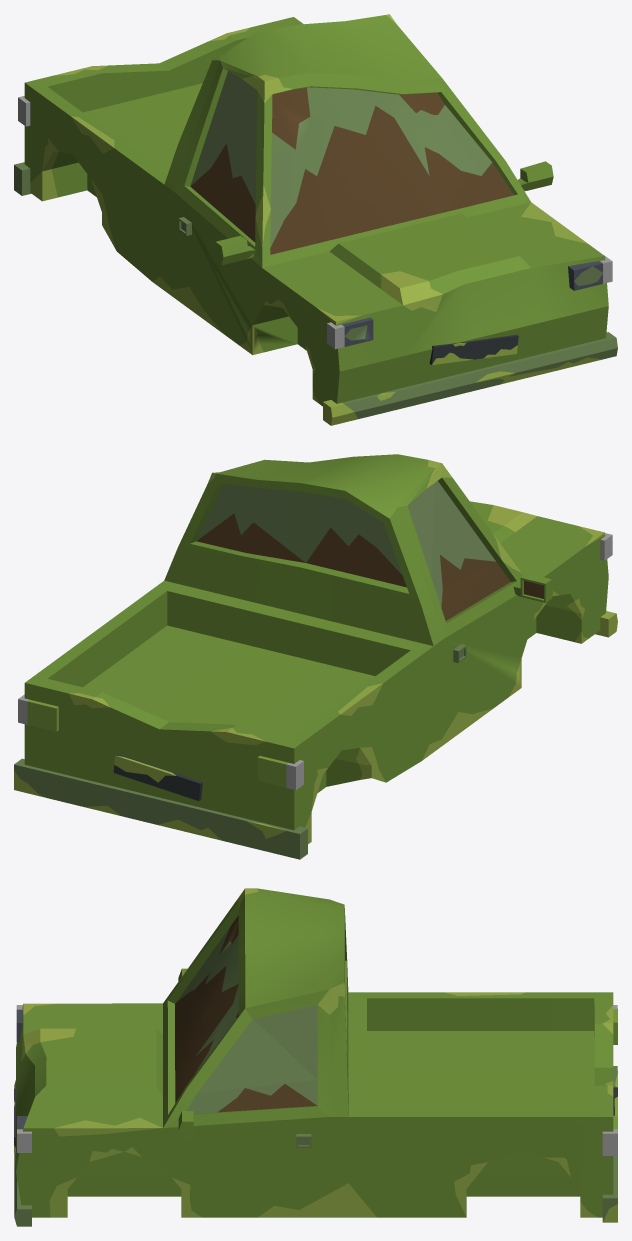
Rendered from OldCar_04.fbx.
3 renders of one model, top to bottom at view 1: azimuth 30°, elevation 25°; view 2: azimuth 150°, elevation 25°; view 3: azimuth 270°, elevation 25°, orthographic. The views are drawn at different scales.
Visible parts, largest first — view 1: OldCar_04; view 2: OldCar_04; view 3: OldCar_04.
Part boxes in pixels (left/top/right/bottom): OldCar_04: left=14, top=14, right=617, bottom=425; OldCar_04: left=14, top=454, right=617, bottom=859; OldCar_04: left=14, top=888, right=617, bottom=1226.
Size of the model in its own units: 1.96 by 1.38 by 3.28.
